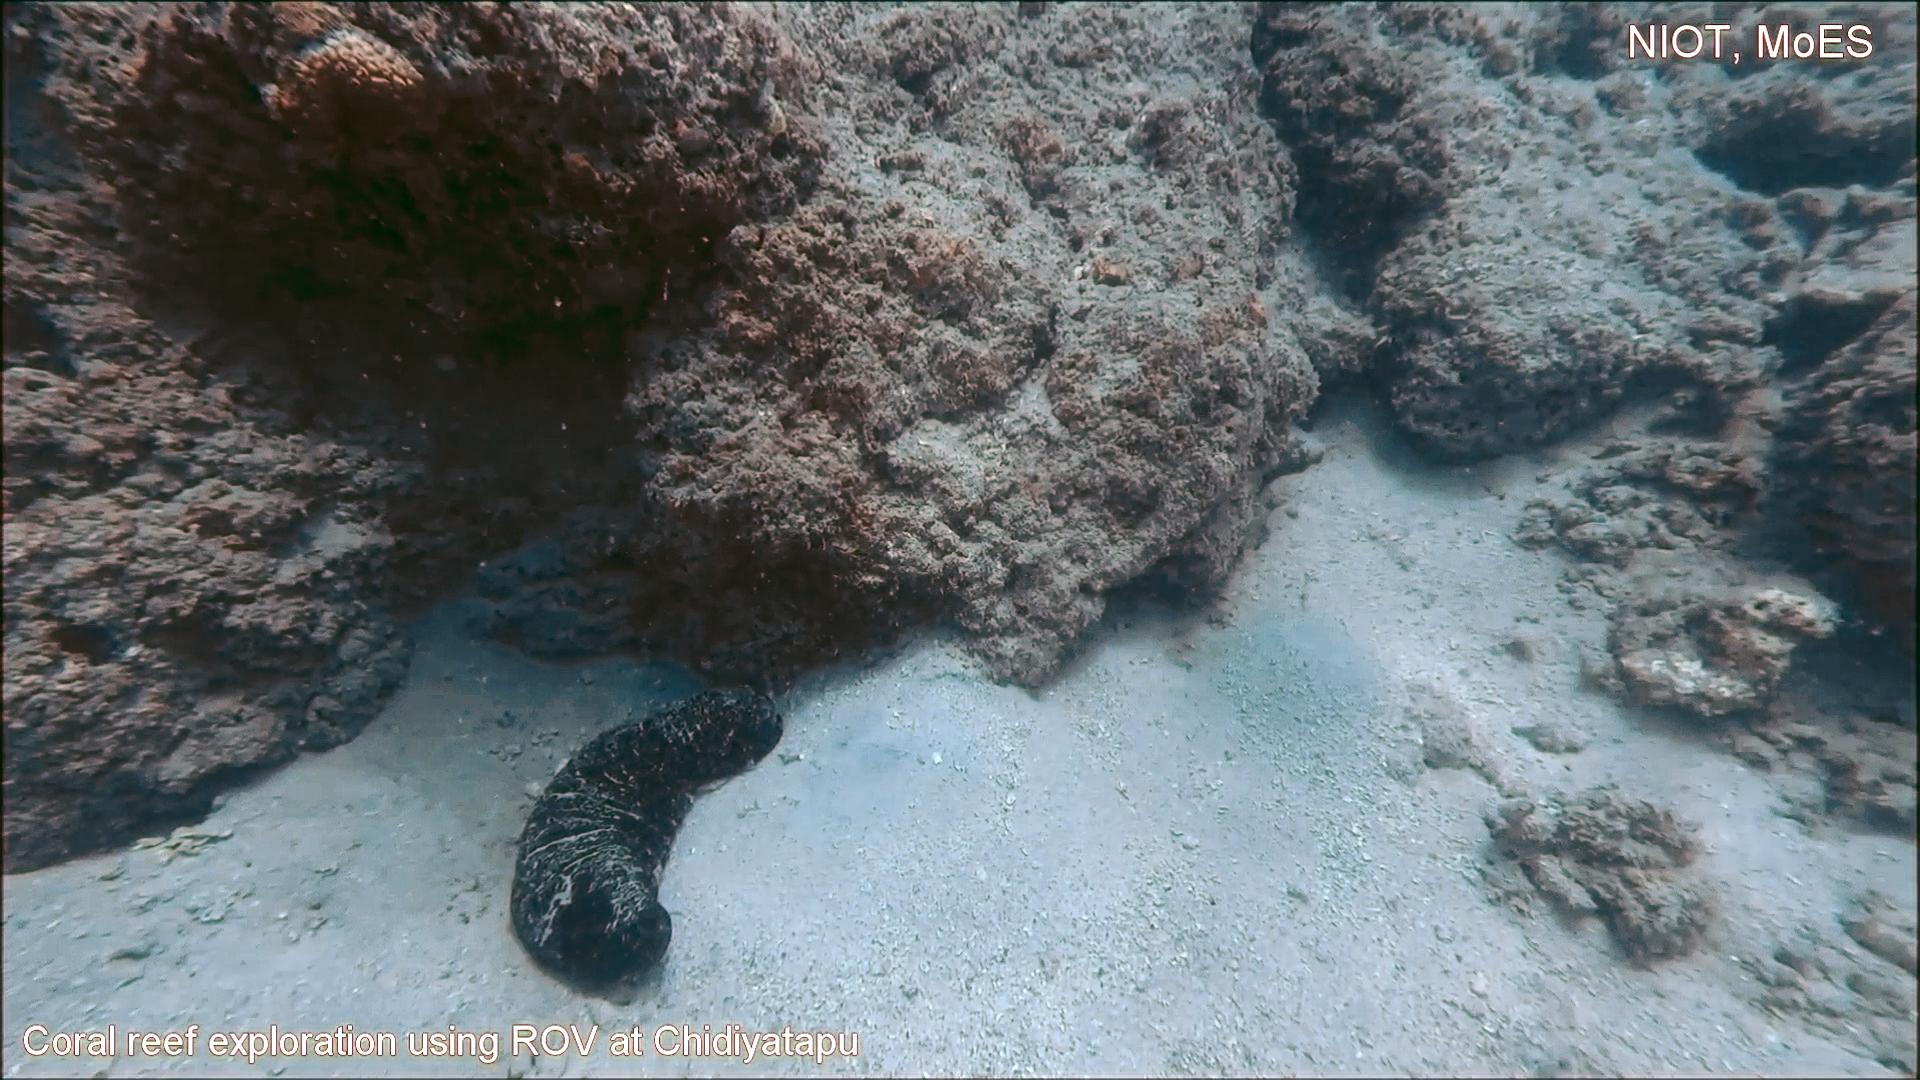Montastraea: (258, 18, 440, 165)
